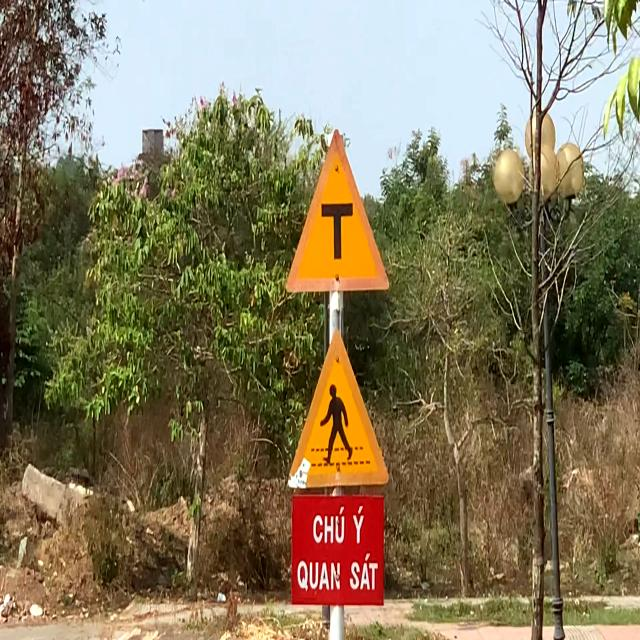W.205b: (285, 126, 391, 295)
W.224: (287, 326, 390, 492)
